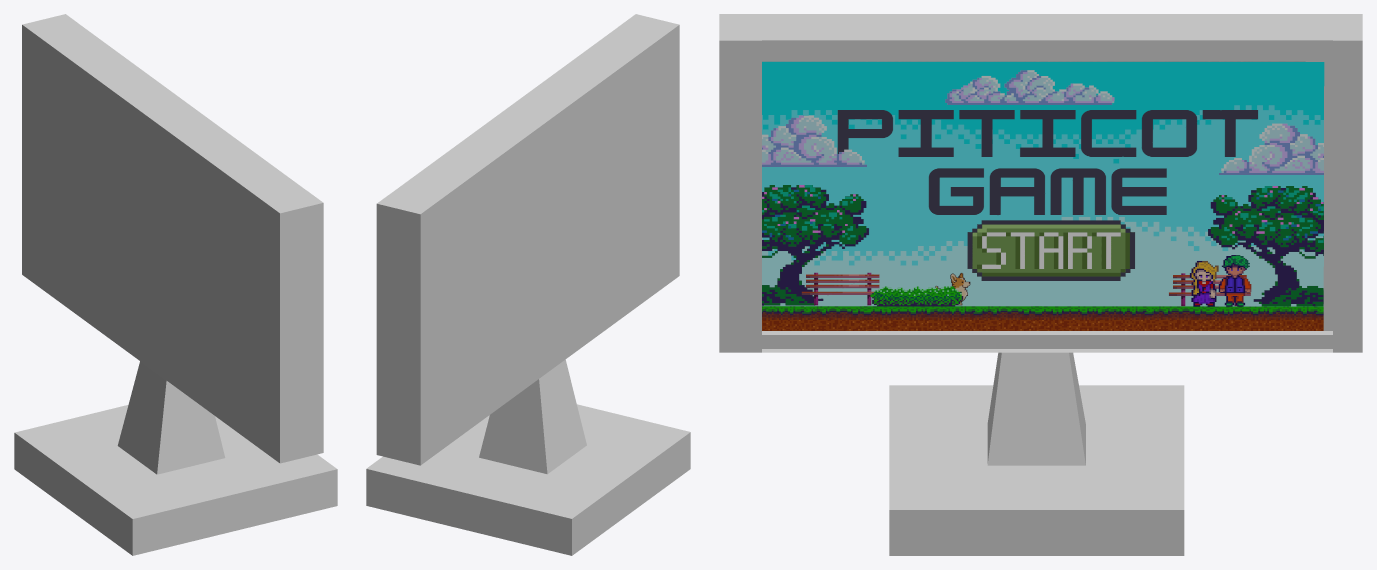
The model's file is monitor-start.fbx.
The picture shows the model from 3 angles, left to right: view 1: azimuth 30°, elevation 25°; view 2: azimuth 150°, elevation 25°; view 3: azimuth 270°, elevation 25°; orthographic projection. The views are drawn at different scales.
Parts seen in each view (by area): view 1: Cube.001; view 2: Cube.001; view 3: Plane, Cube.001.
Part boxes in pixels (x1,y1,x2,y2): Cube.001: [14, 14, 337, 555]; Cube.001: [366, 14, 690, 555]; Plane: [762, 61, 1324, 330]; Cube.001: [719, 14, 1362, 555].
Bounding box in the file's own units: 577 × 1005 × 1259.
Materials: 2 (1 with a texture image).
